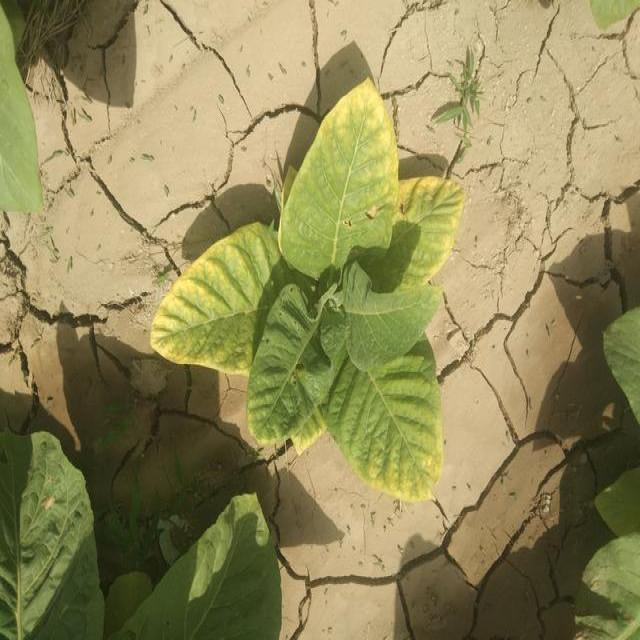crop: (156, 75, 462, 516), (102, 492, 290, 640), (0, 420, 102, 640), (586, 273, 639, 640), (0, 9, 49, 210), (584, 0, 640, 33)
